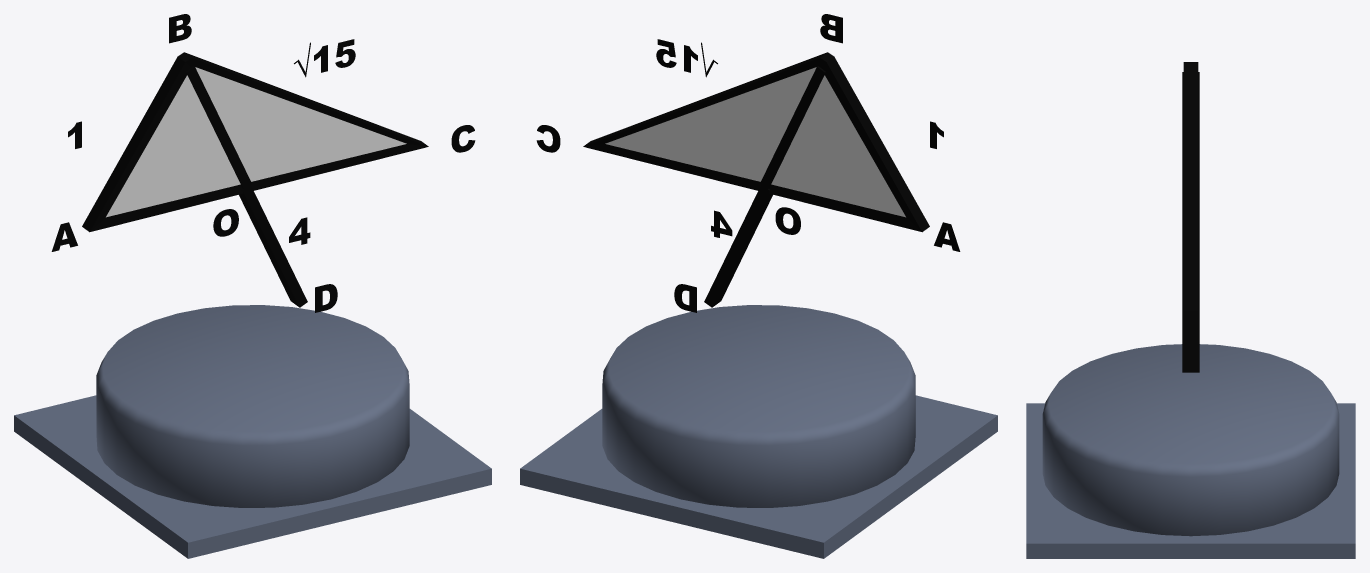
3 views of the same model, side by side, from view 1: azimuth 30°, elevation 25°; view 2: azimuth 150°, elevation 25°; view 3: azimuth 270°, elevation 25° (orthographic). The views are drawn at different scales.
Parts seen in each view (by area): view 1: Cylinder, Cube.001, Cube, Cube.003, Cube.002, Text.003; view 2: Cylinder, Cube.001, Cube, Cube.003, Cube.002, Text.003; view 3: Cylinder, Cube, Cube.001, Cube.003, Cube.002.
Part boxes in pixels (x1,y1,x2,y2): Cylinder: (96, 305, 409, 507); Cube.001: (82, 52, 428, 232); Cube: (14, 395, 491, 558); Cube.003: (239, 185, 307, 307); Cube.002: (186, 66, 251, 189); Text.003: (294, 39, 355, 77); Cylinder: (602, 305, 915, 507); Cube.001: (583, 52, 929, 232); Cube: (520, 395, 997, 558); Cube.003: (704, 185, 772, 307); Cube.002: (760, 66, 825, 189); Text.003: (656, 39, 717, 77); Cylinder: (1042, 344, 1339, 536); Cube: (1026, 403, 1355, 558); Cube.001: (1183, 62, 1198, 310); Cube.003: (1182, 222, 1199, 372); Cube.002: (1182, 72, 1199, 222).
Bounding box in the file's own units: 12.77 × 13.27 × 9.09.
